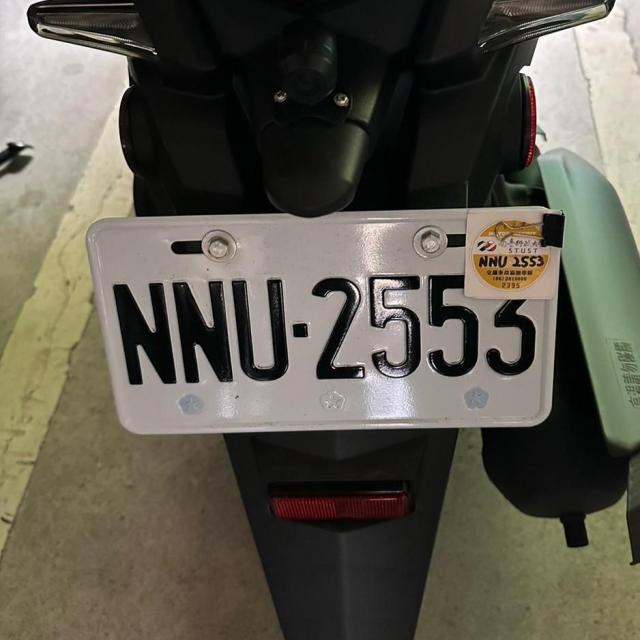W: (84, 192, 564, 444)
